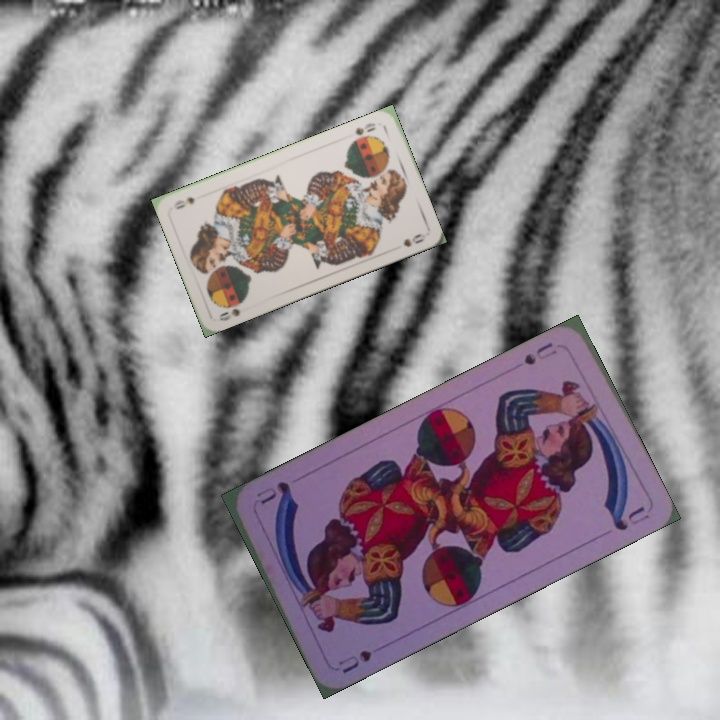SO: (216, 295, 249, 324), (351, 118, 378, 138)
SU: (333, 646, 375, 676), (519, 338, 559, 368)
